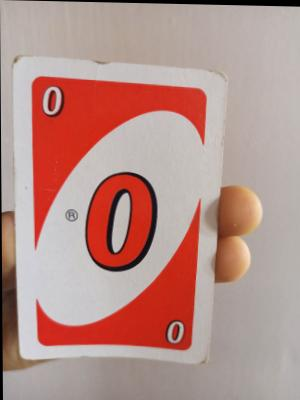num_0: (40, 80, 67, 125), (163, 317, 190, 349)
red: (0, 59, 224, 368)
